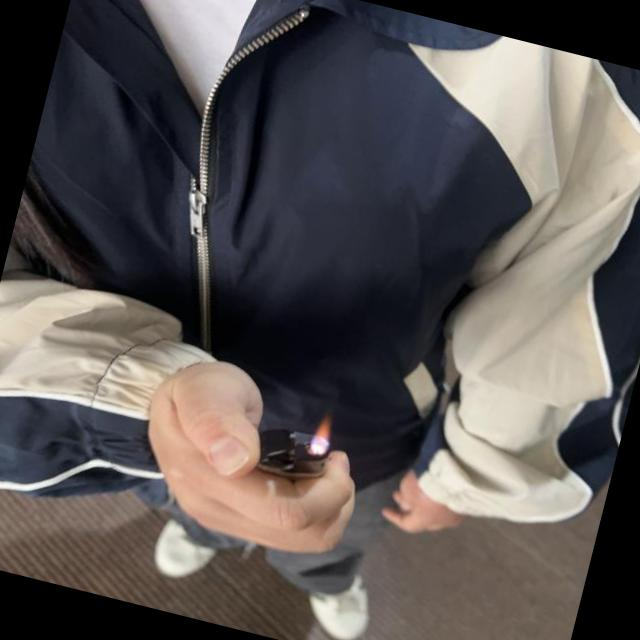Fire: (311, 415, 334, 448)
